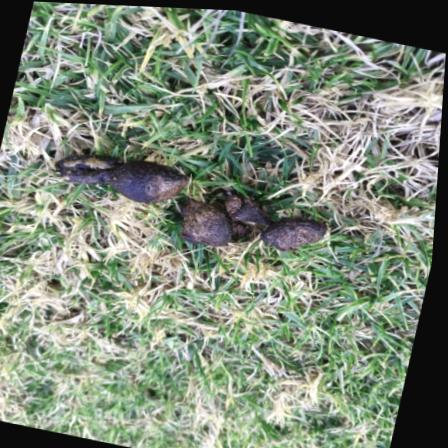dog-poop: (46, 143, 351, 269)
